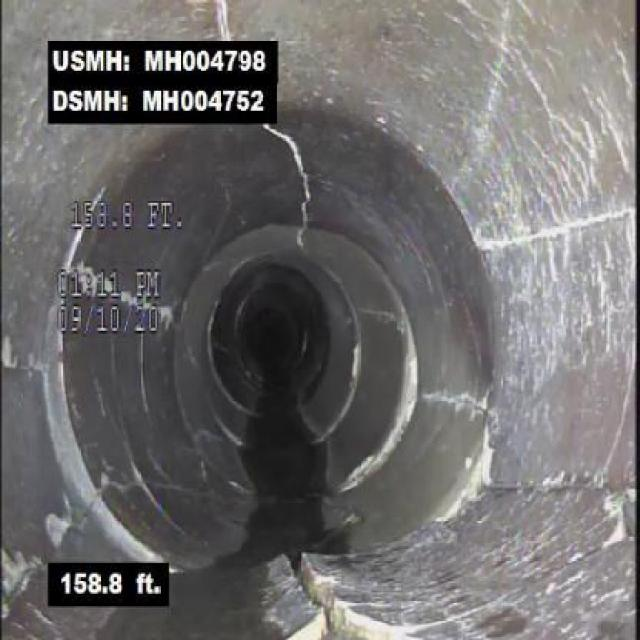Buckling: (226, 544, 409, 638)
Crack: (392, 325, 491, 486), (489, 451, 638, 554), (483, 200, 635, 252), (271, 129, 318, 249), (28, 494, 100, 563), (210, 0, 238, 38)
Joint offset: (43, 294, 100, 488), (108, 508, 182, 570)
